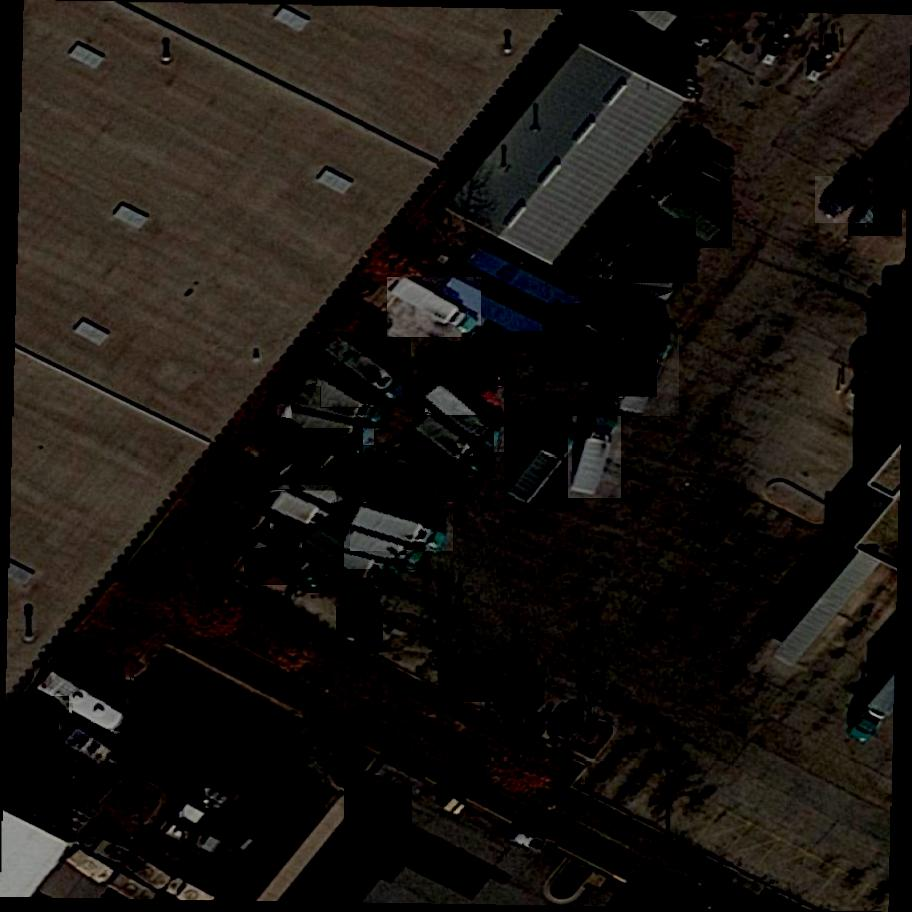large-vehicle: (321, 331, 412, 415), (35, 665, 132, 741), (267, 415, 364, 490), (543, 300, 627, 386), (265, 442, 351, 522), (505, 426, 585, 512), (603, 216, 697, 289), (303, 524, 395, 598), (641, 180, 732, 253), (588, 309, 658, 403), (387, 275, 483, 341), (425, 382, 505, 456), (413, 411, 495, 480), (619, 332, 679, 425), (350, 500, 455, 553), (277, 403, 375, 454), (206, 486, 289, 546), (568, 412, 623, 500), (292, 386, 390, 431), (344, 530, 428, 572), (245, 548, 333, 587), (584, 260, 683, 291), (271, 490, 337, 533)
small-vehicle: (445, 355, 505, 415), (60, 720, 123, 775), (10, 694, 70, 751), (450, 339, 518, 388), (345, 782, 413, 829), (444, 650, 502, 705), (816, 173, 875, 226), (848, 191, 902, 240), (78, 826, 135, 869), (337, 604, 383, 654), (475, 331, 543, 364), (505, 826, 557, 861)
